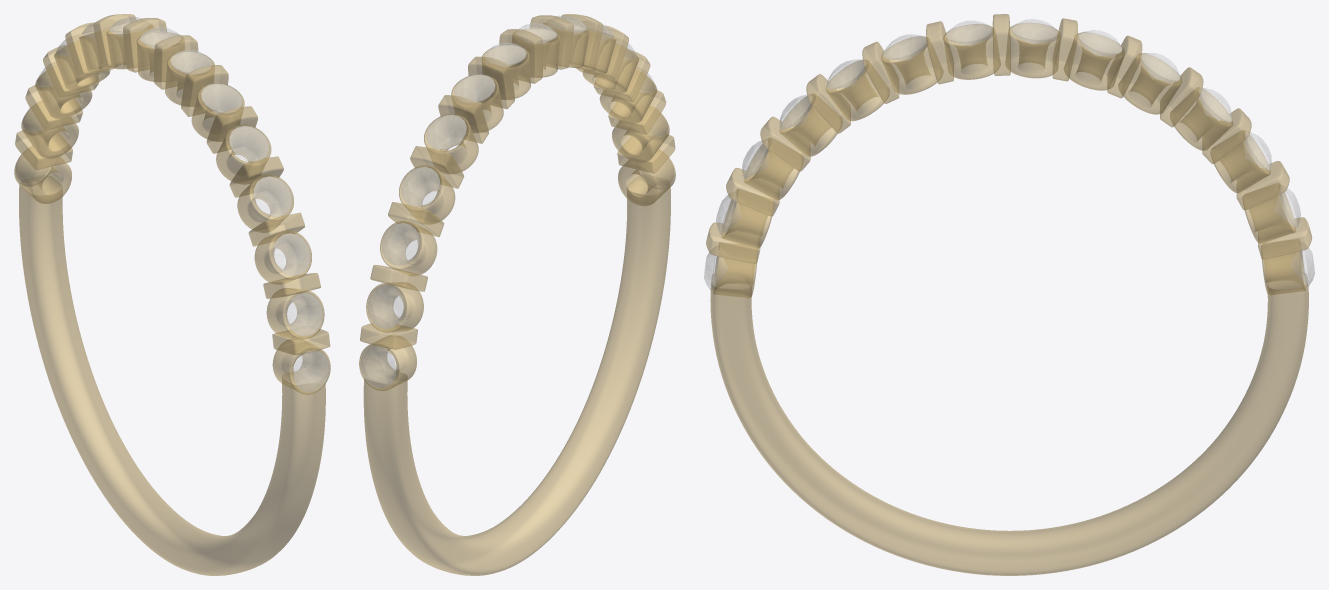
3 renders of one model, left to right at view 1: azimuth 30°, elevation 25°; view 2: azimuth 150°, elevation 25°; view 3: azimuth 270°, elevation 25°, orthographic. The views are drawn at different scales.
Parts seen in each view (by area): view 1: Ring, Diamond; view 2: Ring, Diamond; view 3: Ring, Diamond.
Boxes of the visible parts, x1,y1,x2,y2 form: Ring: (14, 14, 330, 575); Diamond: (16, 17, 328, 392); Ring: (359, 14, 675, 575); Diamond: (360, 16, 673, 388); Ring: (706, 14, 1311, 575); Diamond: (704, 19, 1314, 290).
Size of the model in its own units: 0.1924 by 2.33 by 2.34.
